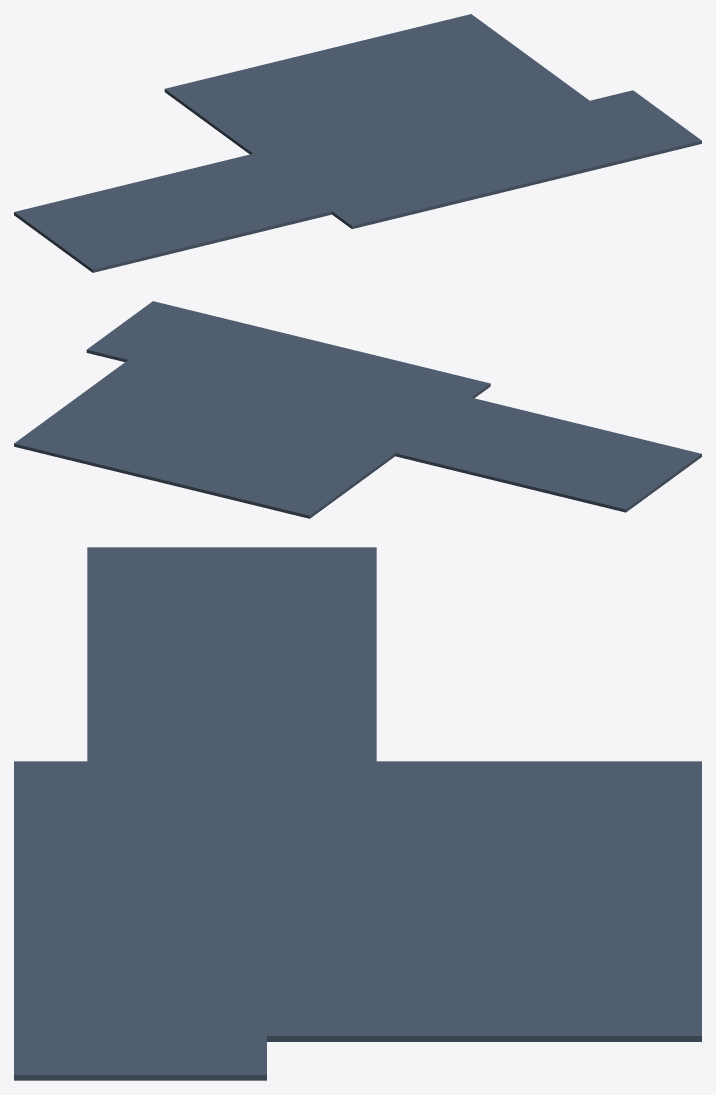
Rendered from floor_geometry.obj.
3 views of the same model, one above another, from view 1: azimuth 30°, elevation 25°; view 2: azimuth 150°, elevation 25°; view 3: azimuth 270°, elevation 25° (orthographic). The views are drawn at different scales.
Parts seen in each view (by area): view 1: Floor_003_l_old_receiving_staryy_priemnyy_zal_2_floor, Floor_001_l_old_receiving_uste_starogo_tonnelya_zaval_floor, Floor_004_l_old_receiving_staryy_priemnyy_zal_floor, Floor_005_l_old_receiving_post_floor, Floor_002_l_old_receiving_komnata_floor, Floor_006_l_old_receiving_styk_s_magistralyu_floor; view 2: Floor_003_l_old_receiving_staryy_priemnyy_zal_2_floor, Floor_001_l_old_receiving_uste_starogo_tonnelya_zaval_floor, Floor_004_l_old_receiving_staryy_priemnyy_zal_floor, Floor_005_l_old_receiving_post_floor, Floor_002_l_old_receiving_komnata_floor, Floor_006_l_old_receiving_styk_s_magistralyu_floor; view 3: Floor_003_l_old_receiving_staryy_priemnyy_zal_2_floor, Floor_001_l_old_receiving_uste_starogo_tonnelya_zaval_floor, Floor_004_l_old_receiving_staryy_priemnyy_zal_floor, Floor_005_l_old_receiving_post_floor, Floor_002_l_old_receiving_komnata_floor, Floor_006_l_old_receiving_styk_s_magistralyu_floor.
Part boxes in pixels (x1,y1,x2,y2): Floor_003_l_old_receiving_staryy_priemnyy_zal_2_floor: (214,50,658,228); Floor_001_l_old_receiving_uste_starogo_tonnelya_zaval_floor: (14,154,331,272); Floor_004_l_old_receiving_staryy_priemnyy_zal_floor: (240,33,442,106); Floor_005_l_old_receiving_post_floor: (393,14,520,69); Floor_002_l_old_receiving_komnata_floor: (164,70,288,127); Floor_006_l_old_receiving_styk_s_magistralyu_floor: (590,90,701,154); Floor_003_l_old_receiving_staryy_priemnyy_zal_2_floor: (62,311,490,483); Floor_001_l_old_receiving_uste_starogo_tonnelya_zaval_floor: (395,397,701,512); Floor_004_l_old_receiving_staryy_priemnyy_zal_floor: (89,427,284,500); Floor_005_l_old_receiving_post_floor: (14,408,136,464); Floor_002_l_old_receiving_komnata_floor: (237,463,357,518); Floor_006_l_old_receiving_styk_s_magistralyu_floor: (86,301,194,361); Floor_003_l_old_receiving_staryy_priemnyy_zal_2_floor: (14,761,519,1041); Floor_001_l_old_receiving_uste_starogo_tonnelya_zaval_floor: (87,547,376,761); Floor_004_l_old_receiving_staryy_priemnyy_zal_floor: (519,828,701,965); Floor_005_l_old_receiving_post_floor: (519,966,701,1041); Floor_002_l_old_receiving_komnata_floor: (519,761,701,828); Floor_006_l_old_receiving_styk_s_magistralyu_floor: (14,1036,266,1080).
Bounding box in the file's own units: 38.4 × 0.2 × 21.16.
